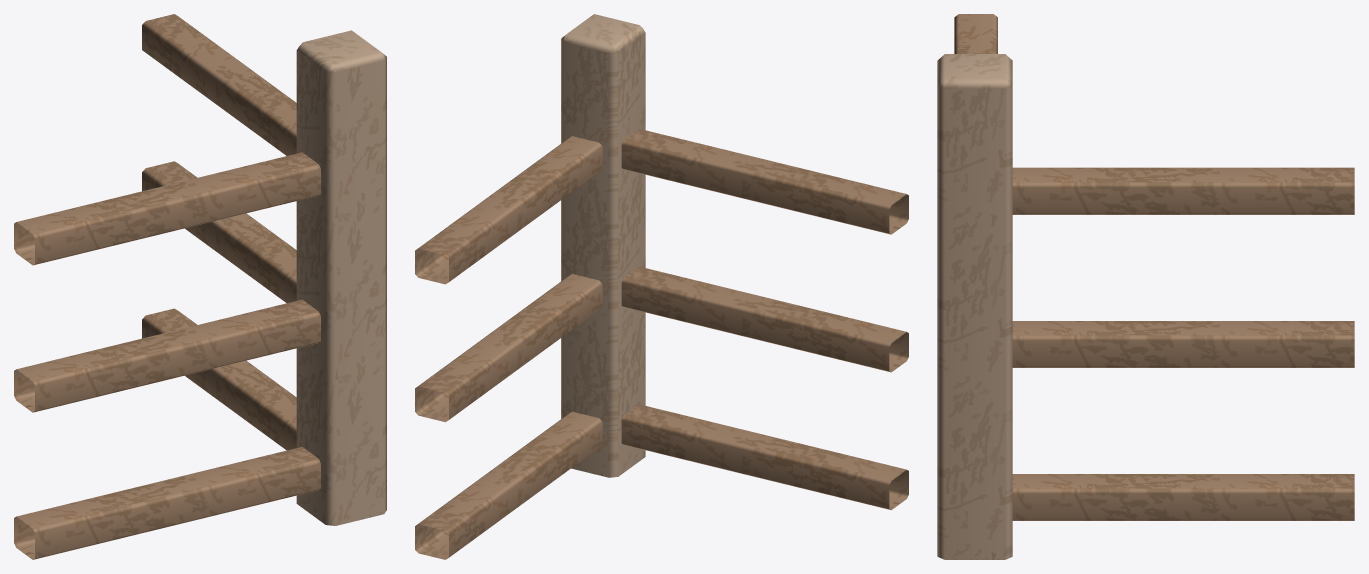
The model's file is fenceCorner.fbx.
3 views of the same model, side by side, from view 1: azimuth 30°, elevation 25°; view 2: azimuth 150°, elevation 25°; view 3: azimuth 270°, elevation 25° (orthographic). The views are drawn at different scales.
Visible parts, largest first — view 1: pCube78; view 2: pCube78; view 3: pCube78.
Part boxes in pixels (x1,y1,x2,y2): pCube78: (14, 14, 386, 559); pCube78: (415, 14, 908, 559); pCube78: (937, 14, 1354, 559).
Size of the model in its own units: 100 by 127 by 100.
